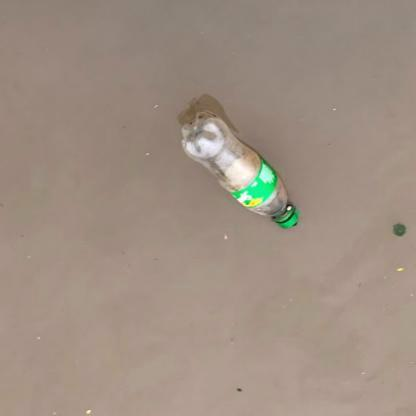Plastic: (179, 93, 303, 233)
